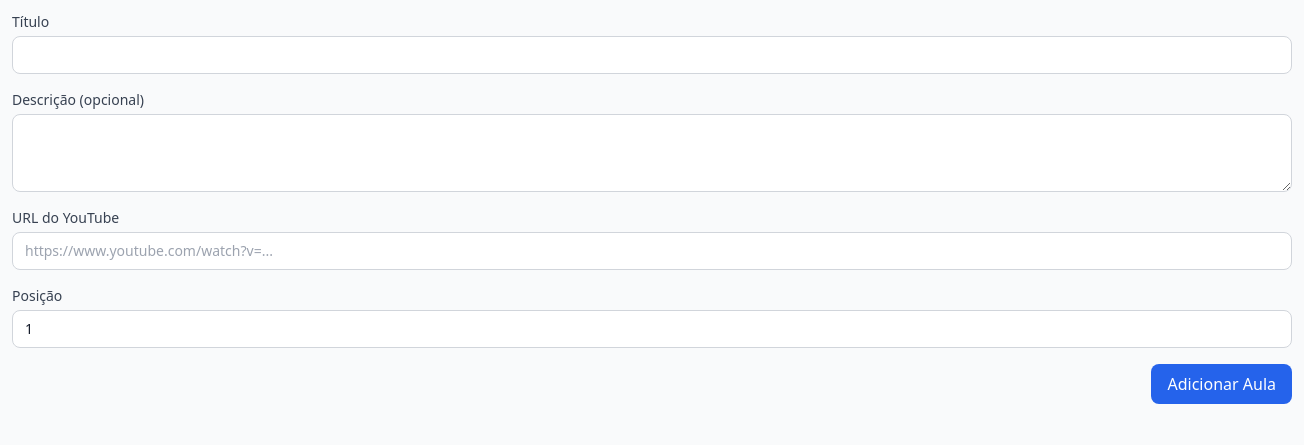
Scenario: LessonForm › deve exibir erro para URL inválida
In the field labelled "Título": (652, 55) [12,36,1292,74], type "Aula 1"
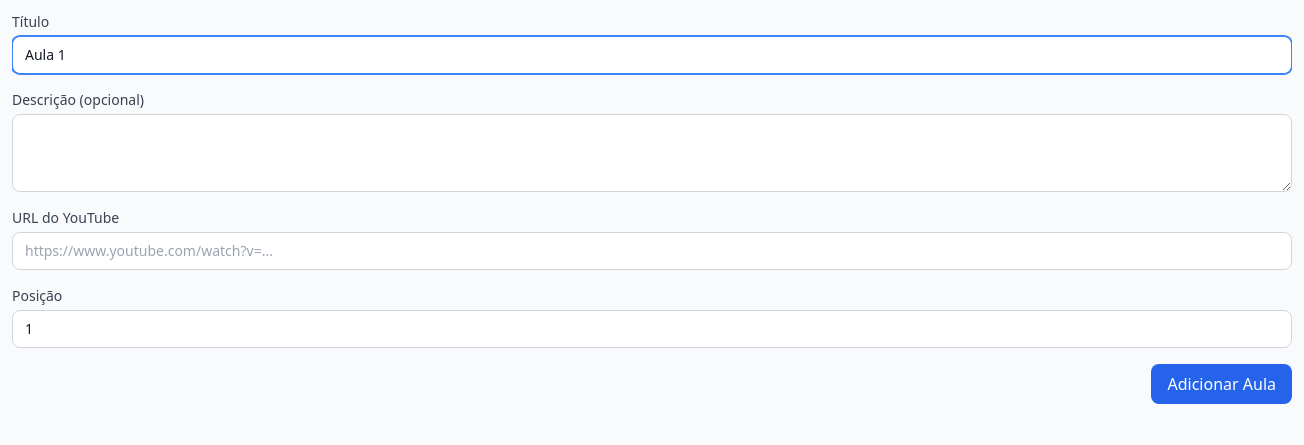
In the field labelled "URL do YouTube": (652, 251) [12,232,1292,270], type "https://example.com/video"
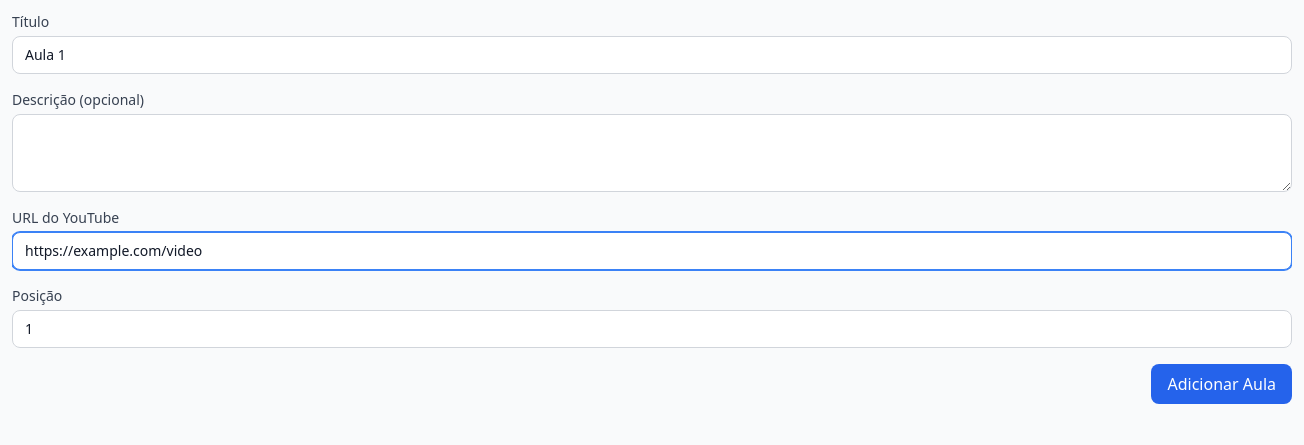
Click the button "Adicionar Aula": (1222, 384) [1152,364,1292,404]
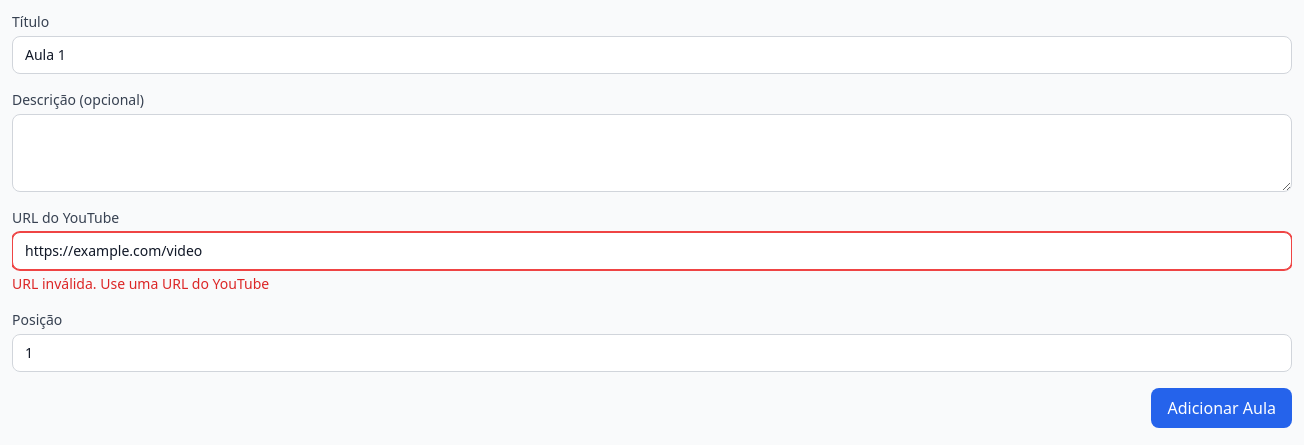
Result: the text "URL inválida. Use uma URL do YouTube" is shown at [12,274,269,293]
